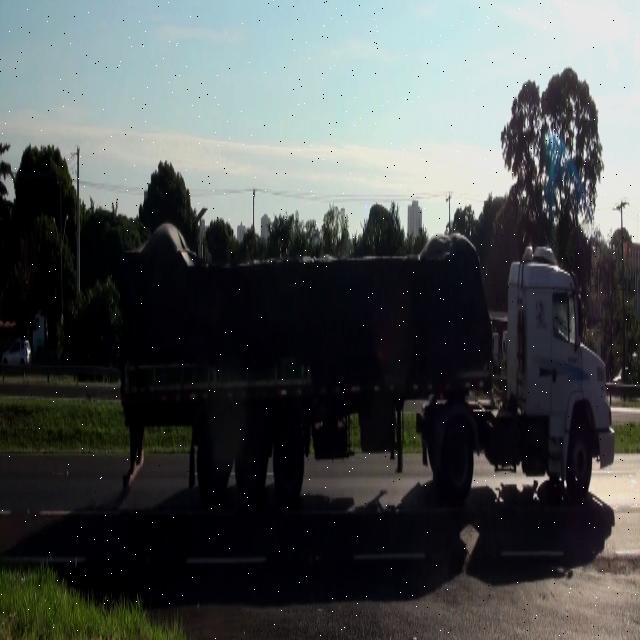-axle: (441, 416, 478, 498), (273, 415, 307, 501), (236, 408, 268, 498), (197, 409, 230, 494), (566, 419, 594, 502)
